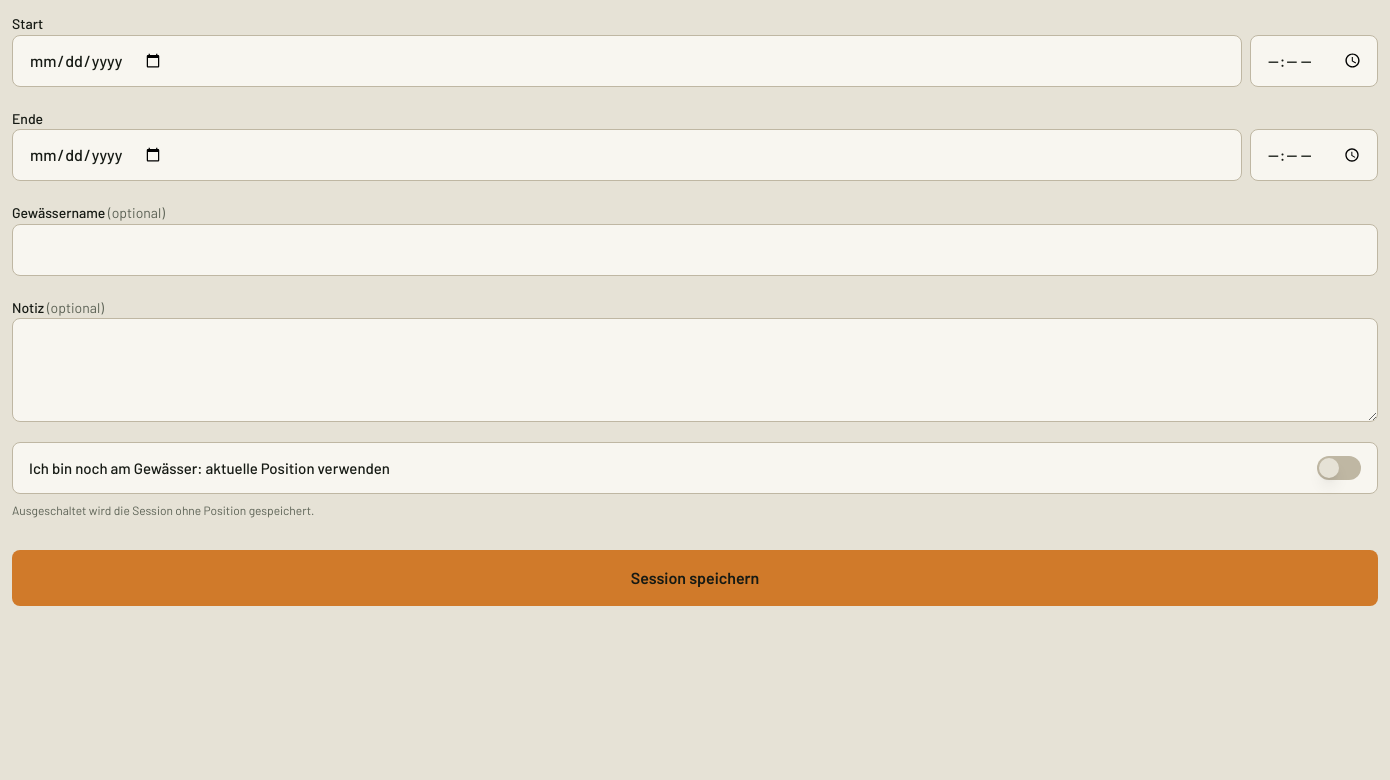
Test case: SessionBackfillForm › shows the time rules at the fields before sending (AC-15)
The width and height of the screenshot is (1390, 780).
Type "2026-09-12" into the date field named "Start: Datum" at (627, 60), box [12,34,1242,86]
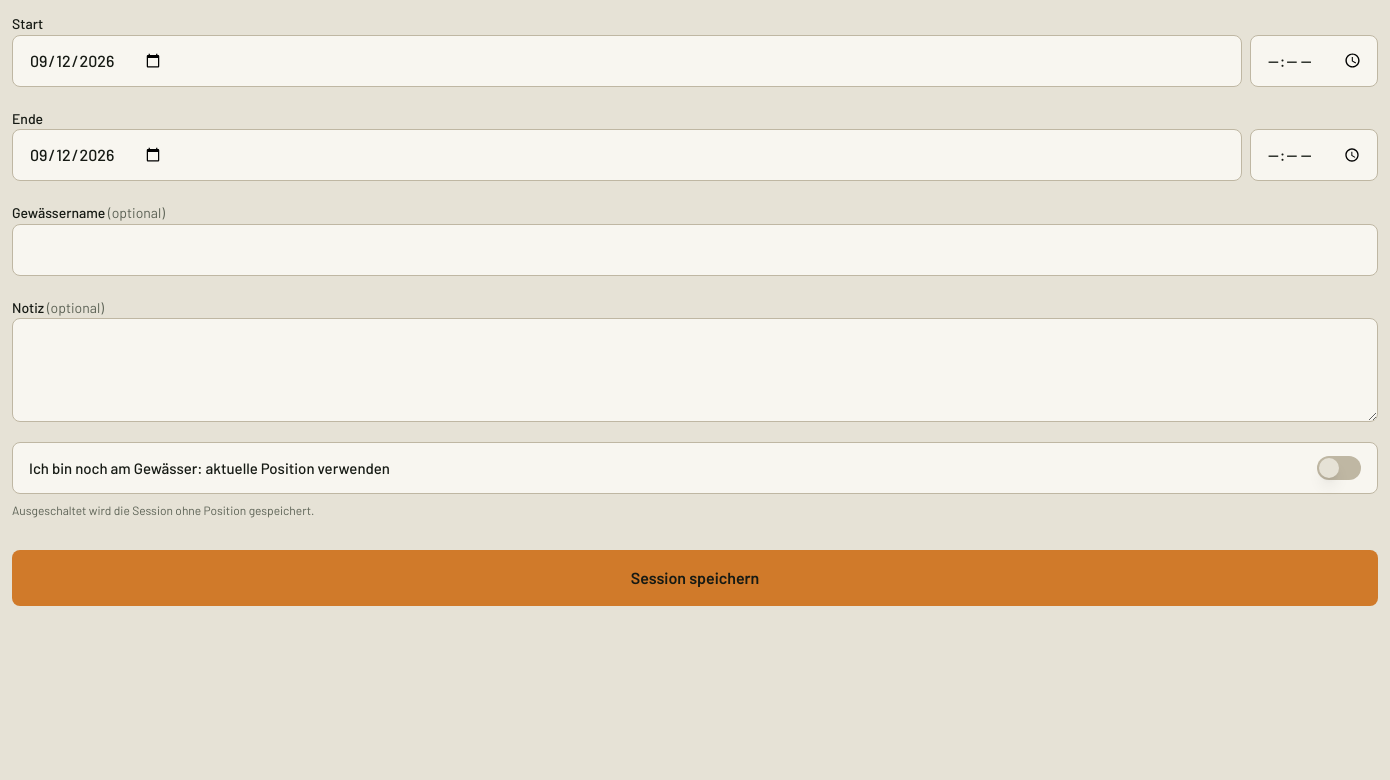
Type "16:00" into the time field named "Start: Uhrzeit" at (1314, 60), box [1250,34,1378,86]
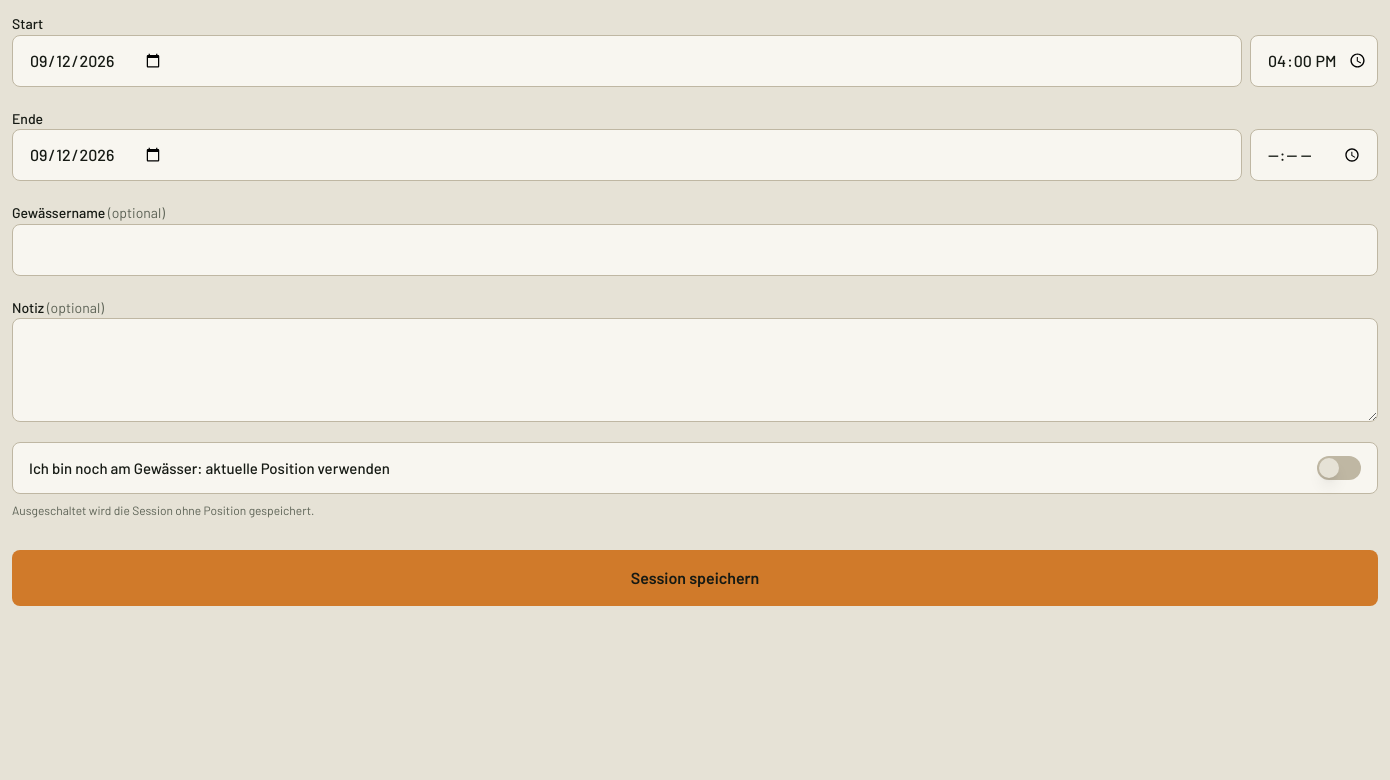
Type "15:00" into the time field named "Ende: Uhrzeit" at (1314, 155), box [1250,129,1378,181]
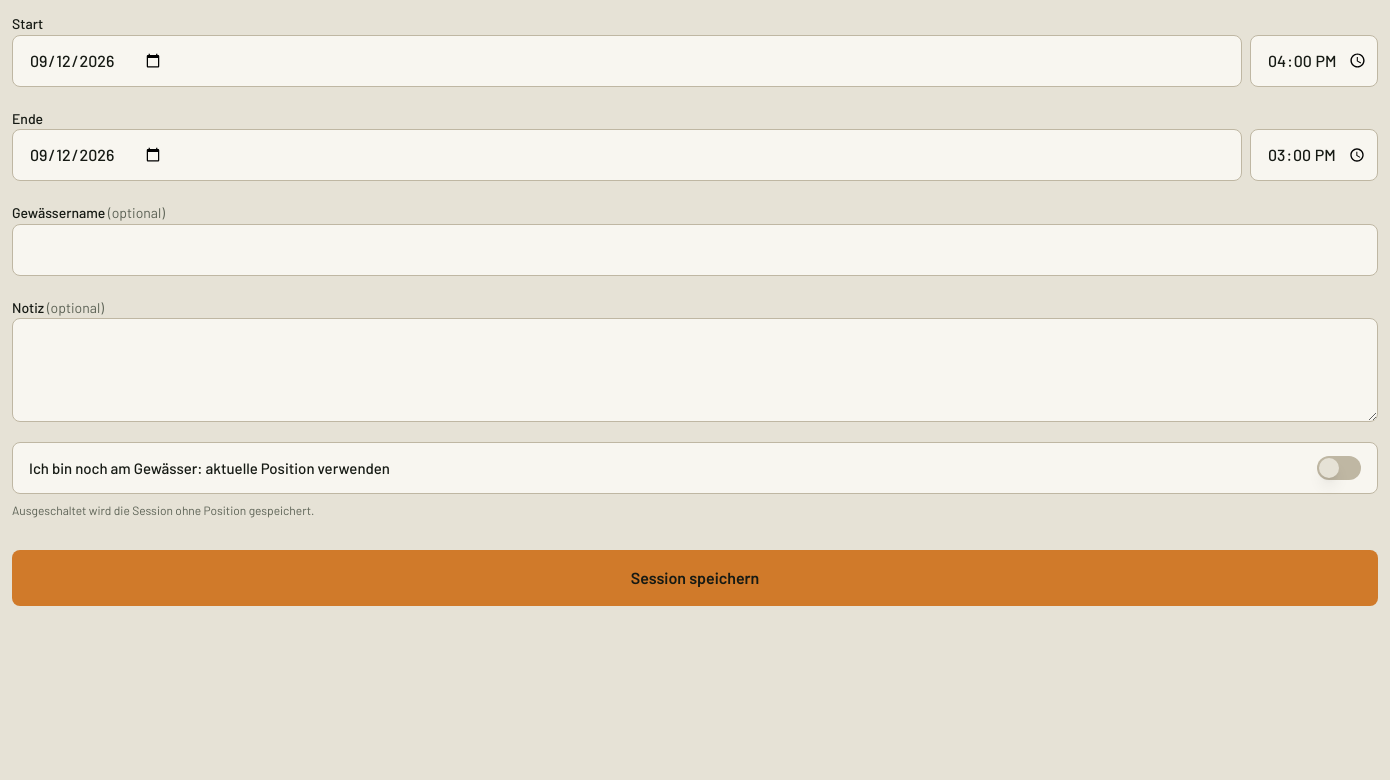
Click the button "Session speichern" at (695, 578), box [12,550,1378,606]
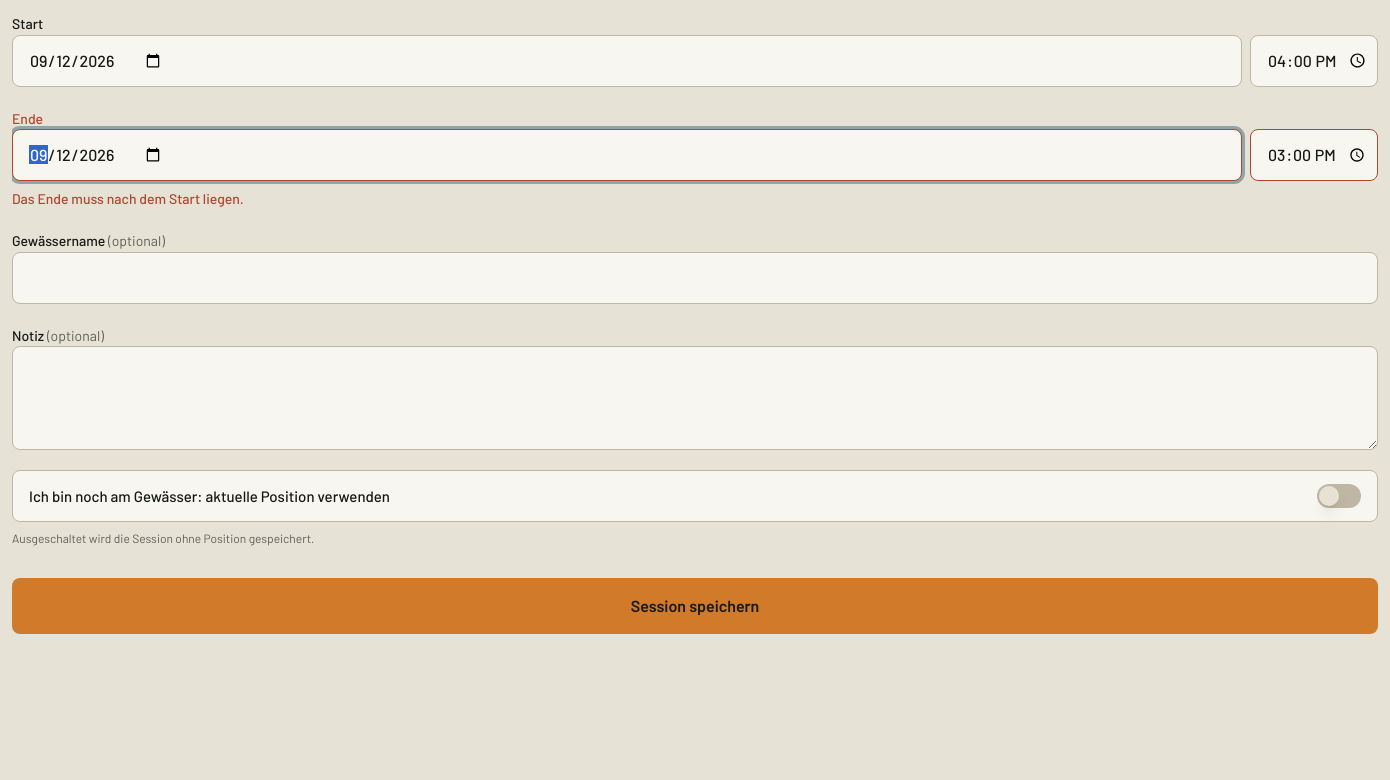
Expected: the text "Das Ende muss nach dem Start liegen." is shown, [12,190,244,207]
